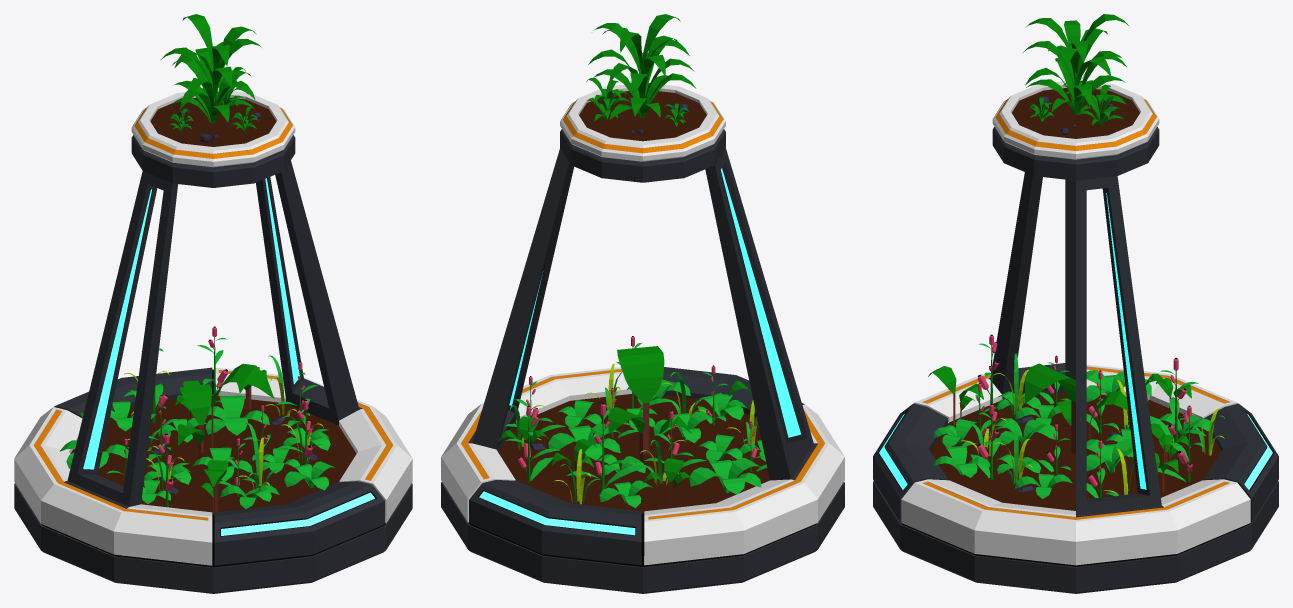
Rendered from SM_Botanical_DualTierPlanter.fbx.
3 views of the same model, side by side, from view 1: azimuth 30°, elevation 25°; view 2: azimuth 150°, elevation 25°; view 3: azimuth 270°, elevation 25° (orthographic).
Visible parts, largest first — view 1: SM_Botanical_DualTierPlanter; view 2: SM_Botanical_DualTierPlanter; view 3: SM_Botanical_DualTierPlanter.
Boxes of the visible parts, <box> form: SM_Botanical_DualTierPlanter: <box>14,14,412,593</box>; SM_Botanical_DualTierPlanter: <box>441,14,844,593</box>; SM_Botanical_DualTierPlanter: <box>873,14,1278,593</box>.
Bounding box in the file's own units: 136 × 182 × 136.
